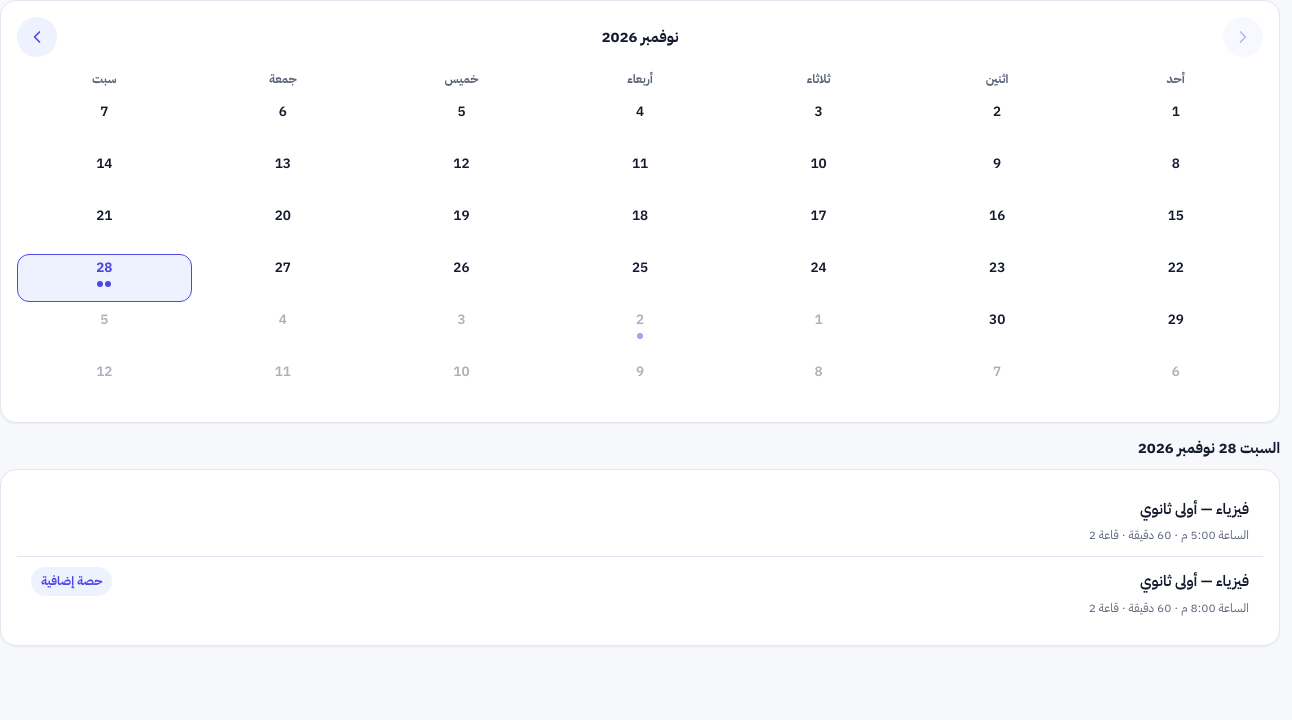
Test: UpcomingSessionsCalendar — العرض والتفاعل › التنقّل للشهر التالي يعرض شبكة ديسمبر
What coordinates should you click on to do the following:
click the button named "الشهر التالي"
I would click on:
 (37, 37)
Its box is [17,17,57,57].
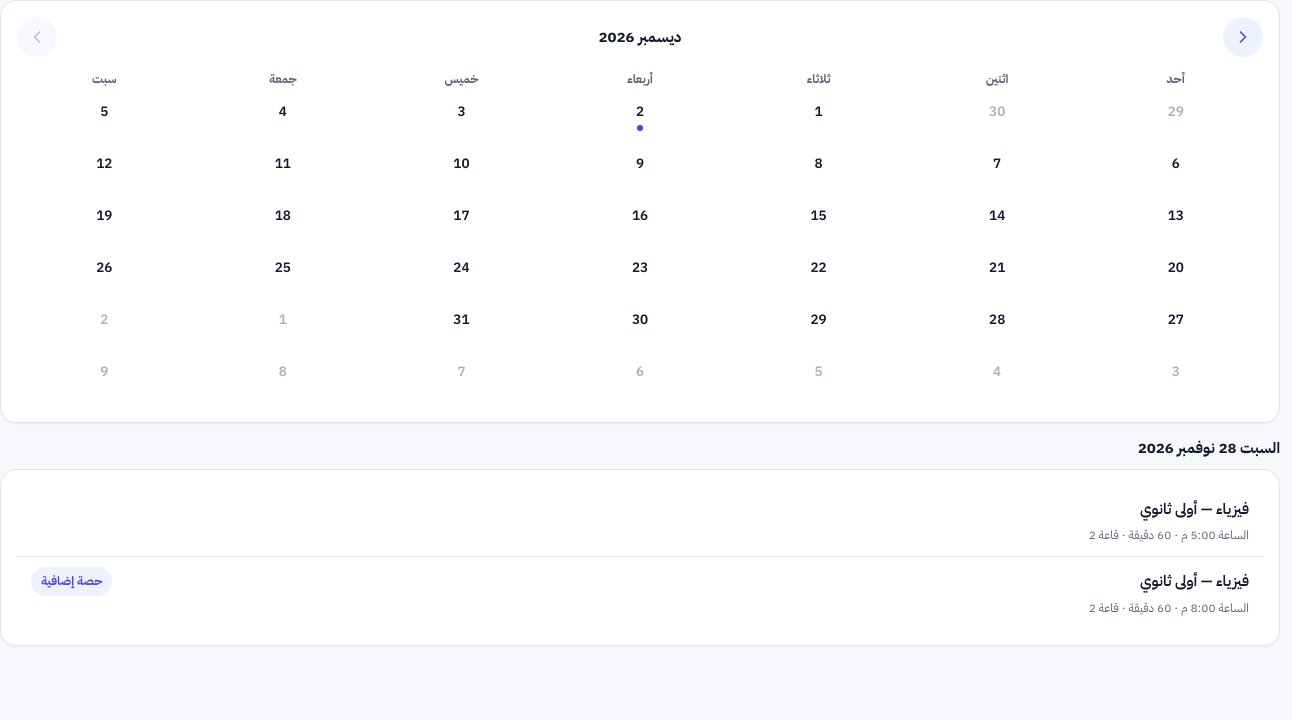
Expected: the text "ديسمبر 2026" is shown, [599,24,681,50]
